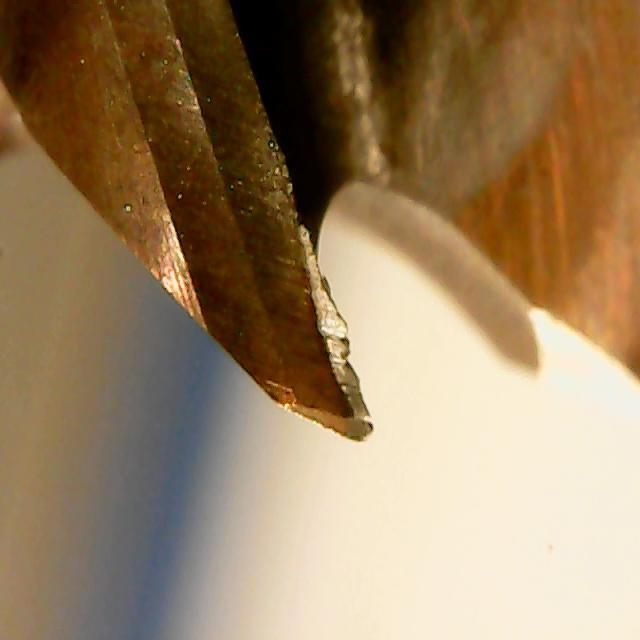Tool-wear-class-2: (202, 191, 379, 454)
